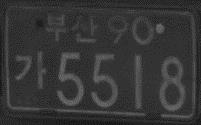0: (131, 13, 155, 44)
1: (130, 52, 149, 111)
5: (88, 51, 121, 109), (53, 51, 86, 107)
8: (159, 55, 188, 112)
9: (107, 13, 131, 47)
가: (14, 48, 47, 91)
부산_O: (45, 11, 99, 45)
